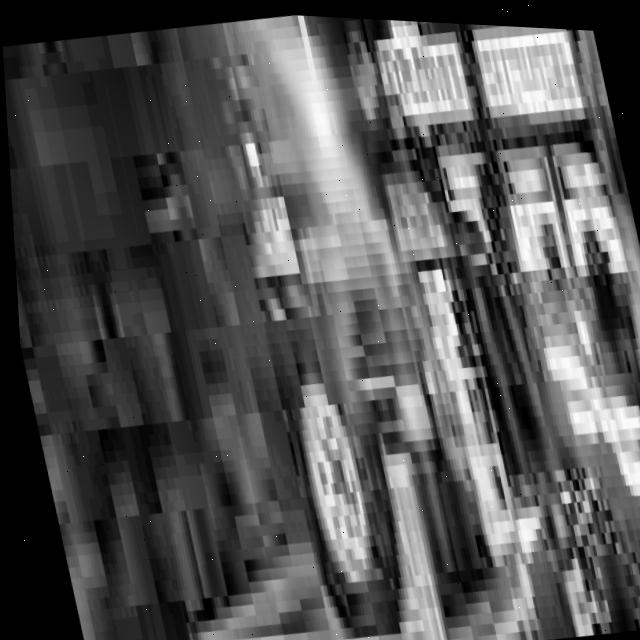light_vehicle: (41, 2, 640, 640)
